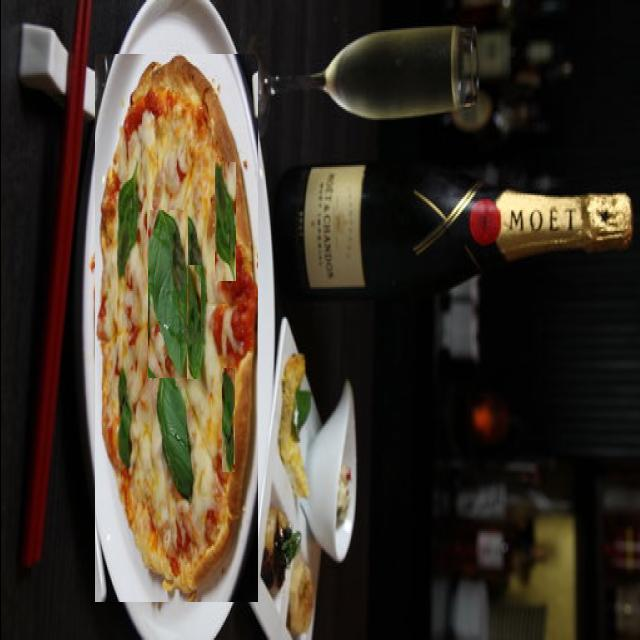basil: (147, 210, 187, 378), (159, 367, 195, 502), (212, 162, 235, 281), (186, 265, 200, 379), (221, 368, 234, 472)
pizza: (94, 55, 257, 602)
